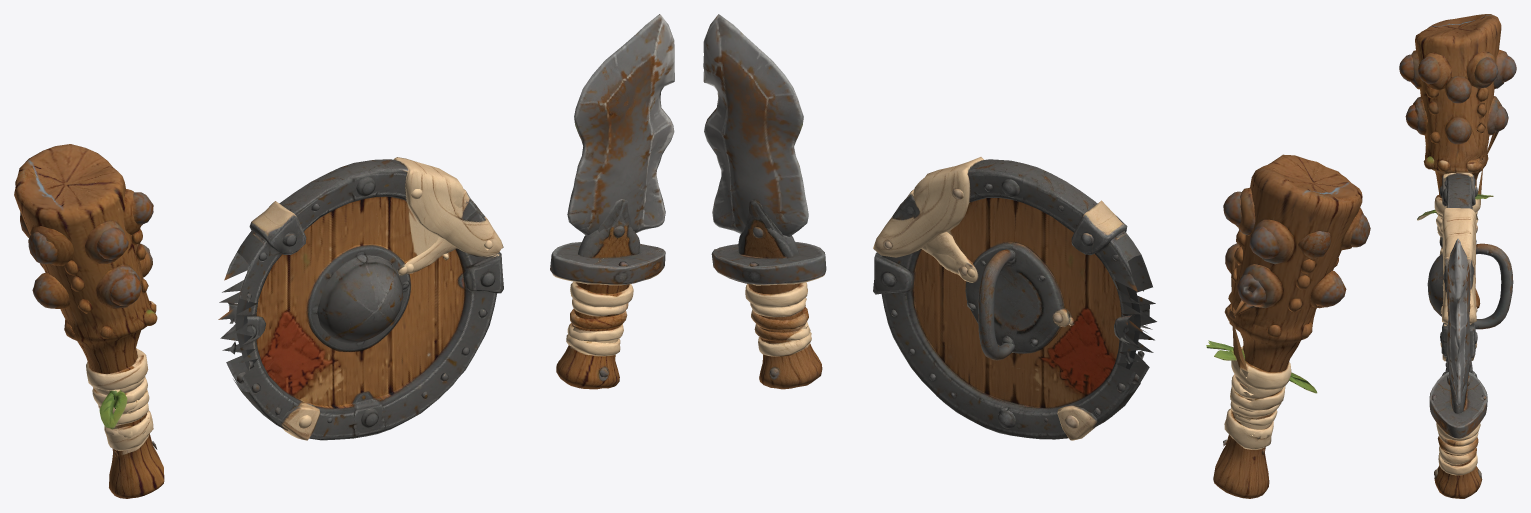
File: armas_goblin.glb
The picture shows the model from 3 angles, left to right: view 1: azimuth 30°, elevation 25°; view 2: azimuth 150°, elevation 25°; view 3: azimuth 270°, elevation 25°; orthographic projection. The views are drawn at different scales.
Parts seen in each view (by area): view 1: escudo, garrote, espada_goblin; view 2: escudo, garrote, espada_goblin; view 3: garrote, espada_goblin, escudo.
Boxes of the visible parts, x1,y1,x2,y2 form: escudo: [218, 157, 503, 440]; garrote: [14, 144, 164, 498]; espada_goblin: [550, 14, 674, 389]; escudo: [873, 157, 1156, 440]; garrote: [1206, 154, 1370, 498]; espada_goblin: [703, 14, 826, 389]; garrote: [1399, 14, 1516, 308]; espada_goblin: [1429, 238, 1487, 498]; escudo: [1427, 172, 1513, 377].
Bounding box in the file's own units: 1 × 0.5222 × 0.1989.
Materials: 1 (1 with a texture image).
